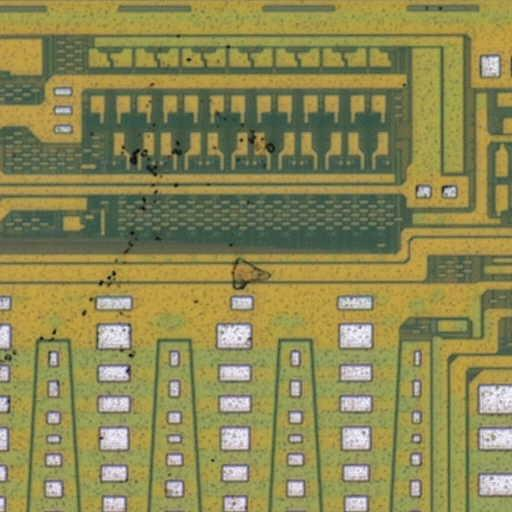PO CONTAMINATION: (1, 96, 285, 375)
